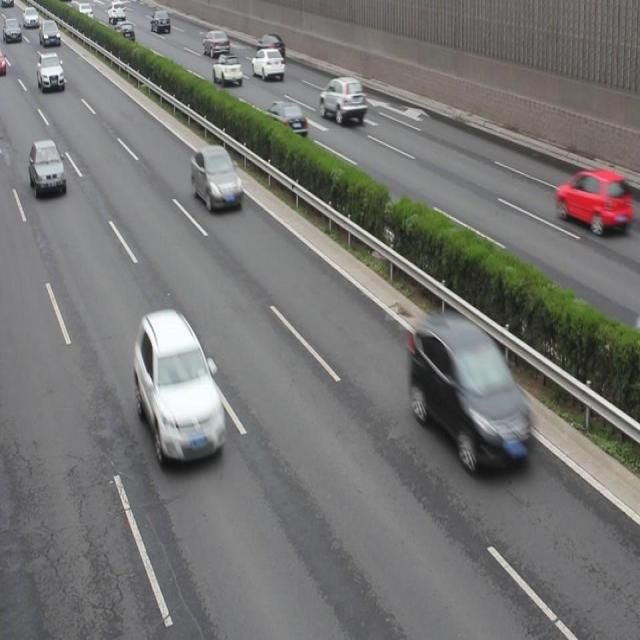car: (410, 312, 535, 476), (135, 313, 224, 463), (556, 166, 623, 232), (190, 145, 243, 212), (320, 75, 364, 125), (29, 141, 66, 198), (264, 99, 308, 140), (252, 48, 284, 82), (212, 52, 242, 85), (38, 54, 64, 92), (257, 34, 285, 61), (203, 30, 229, 59), (151, 10, 170, 36), (116, 23, 136, 45)
